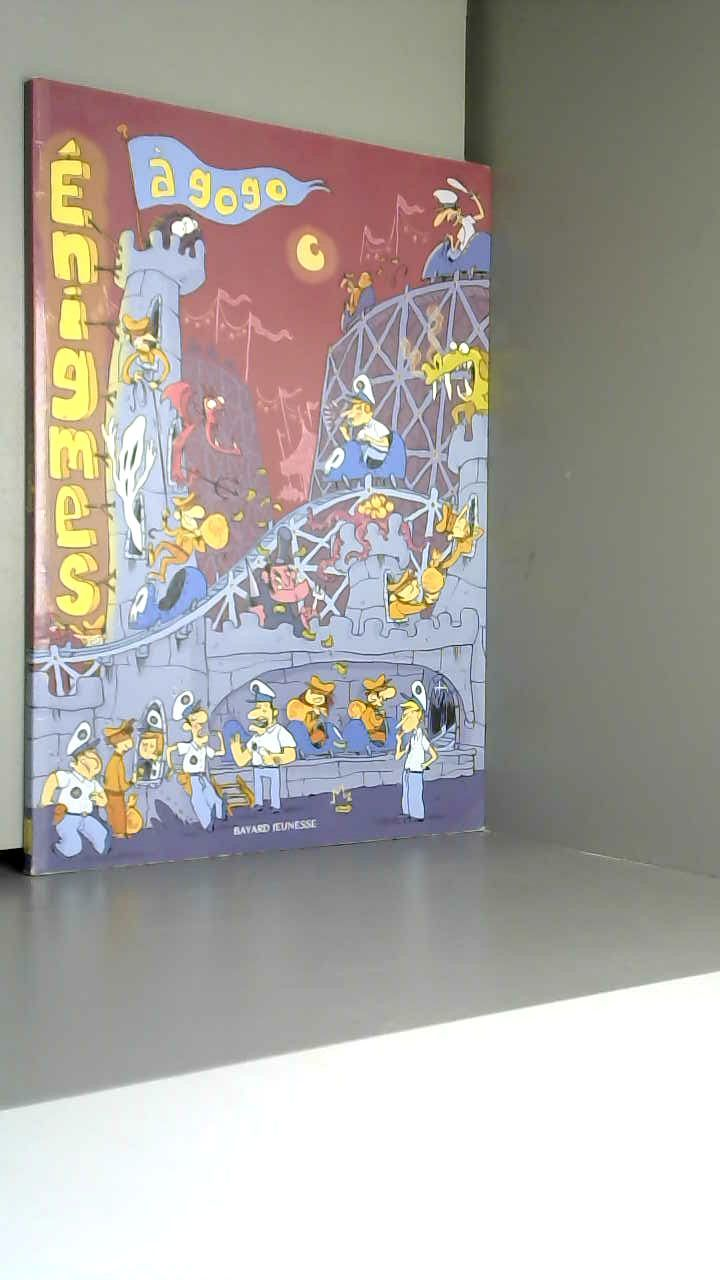book: (9, 52, 530, 900)
